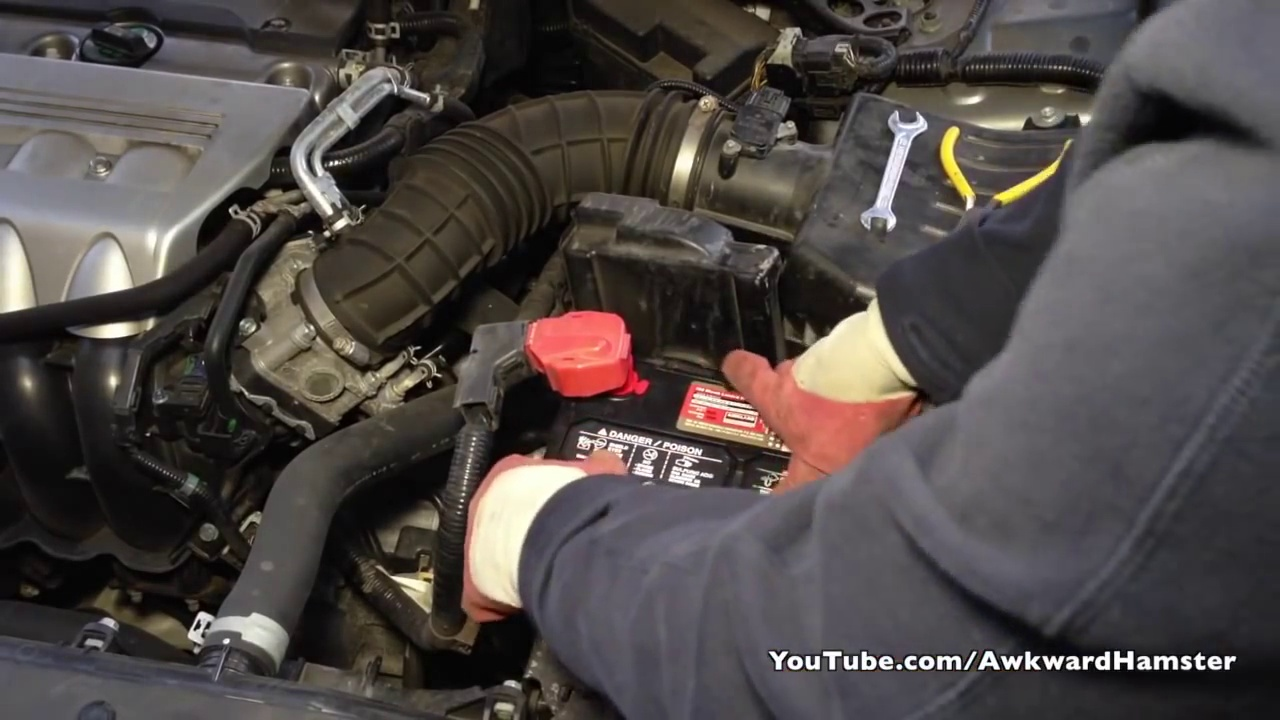battery: (538, 334, 820, 526)
pos_connected: (481, 304, 661, 413)
